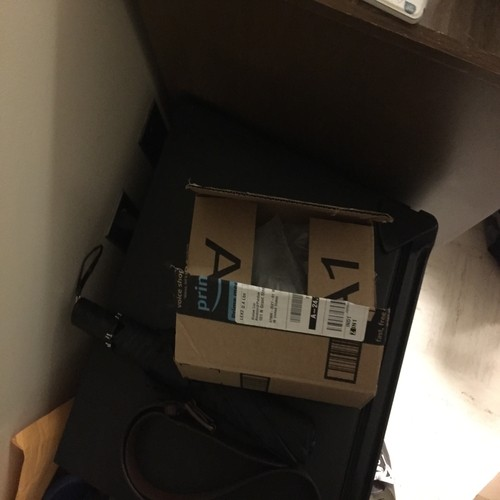box: (164, 175, 396, 414)
